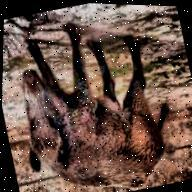boar: (0, 6, 187, 192)
